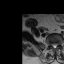CCS_severe_stenosis: (54, 43, 55, 49)
LFS_stenosis: (58, 42, 59, 46)
LLS_stenosis: (56, 43, 57, 48)
RFS_severe_stenosis: (50, 42, 52, 46)
RLS_stenosis: (52, 43, 54, 48)
